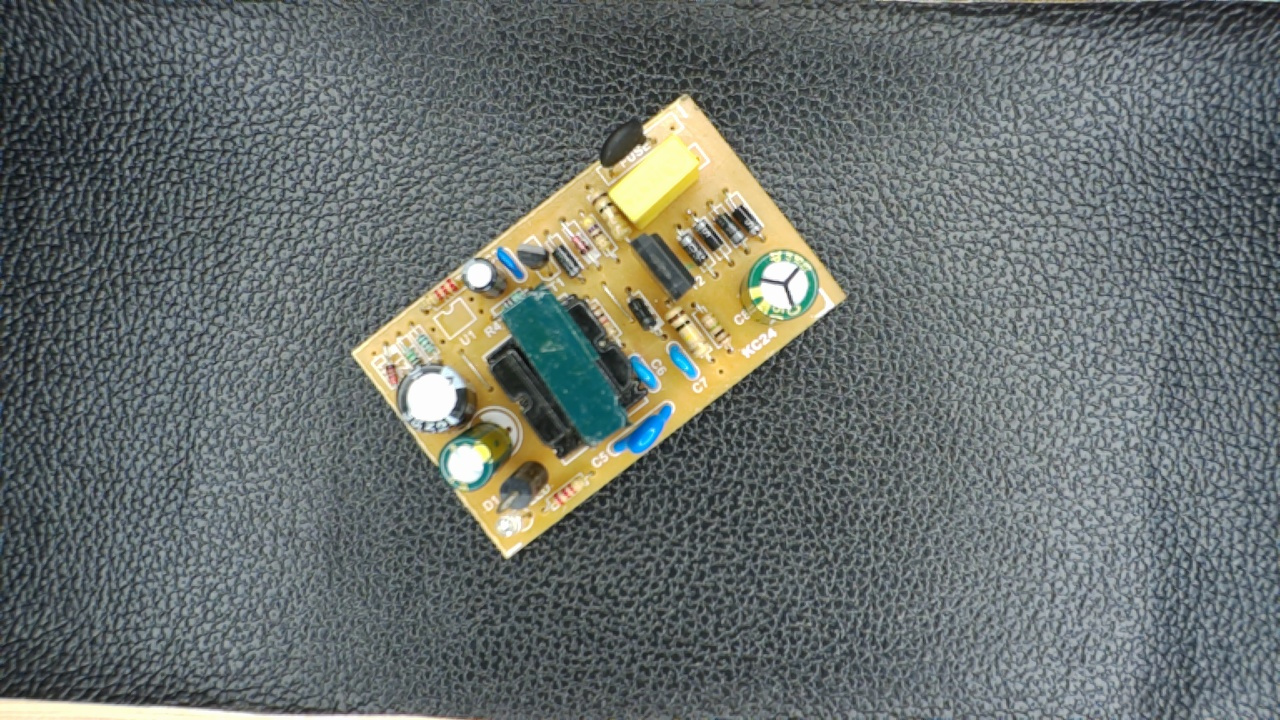fuse: (591, 116, 657, 177)
hv_capacitor: (737, 251, 821, 324)
mov: (606, 402, 678, 456)
